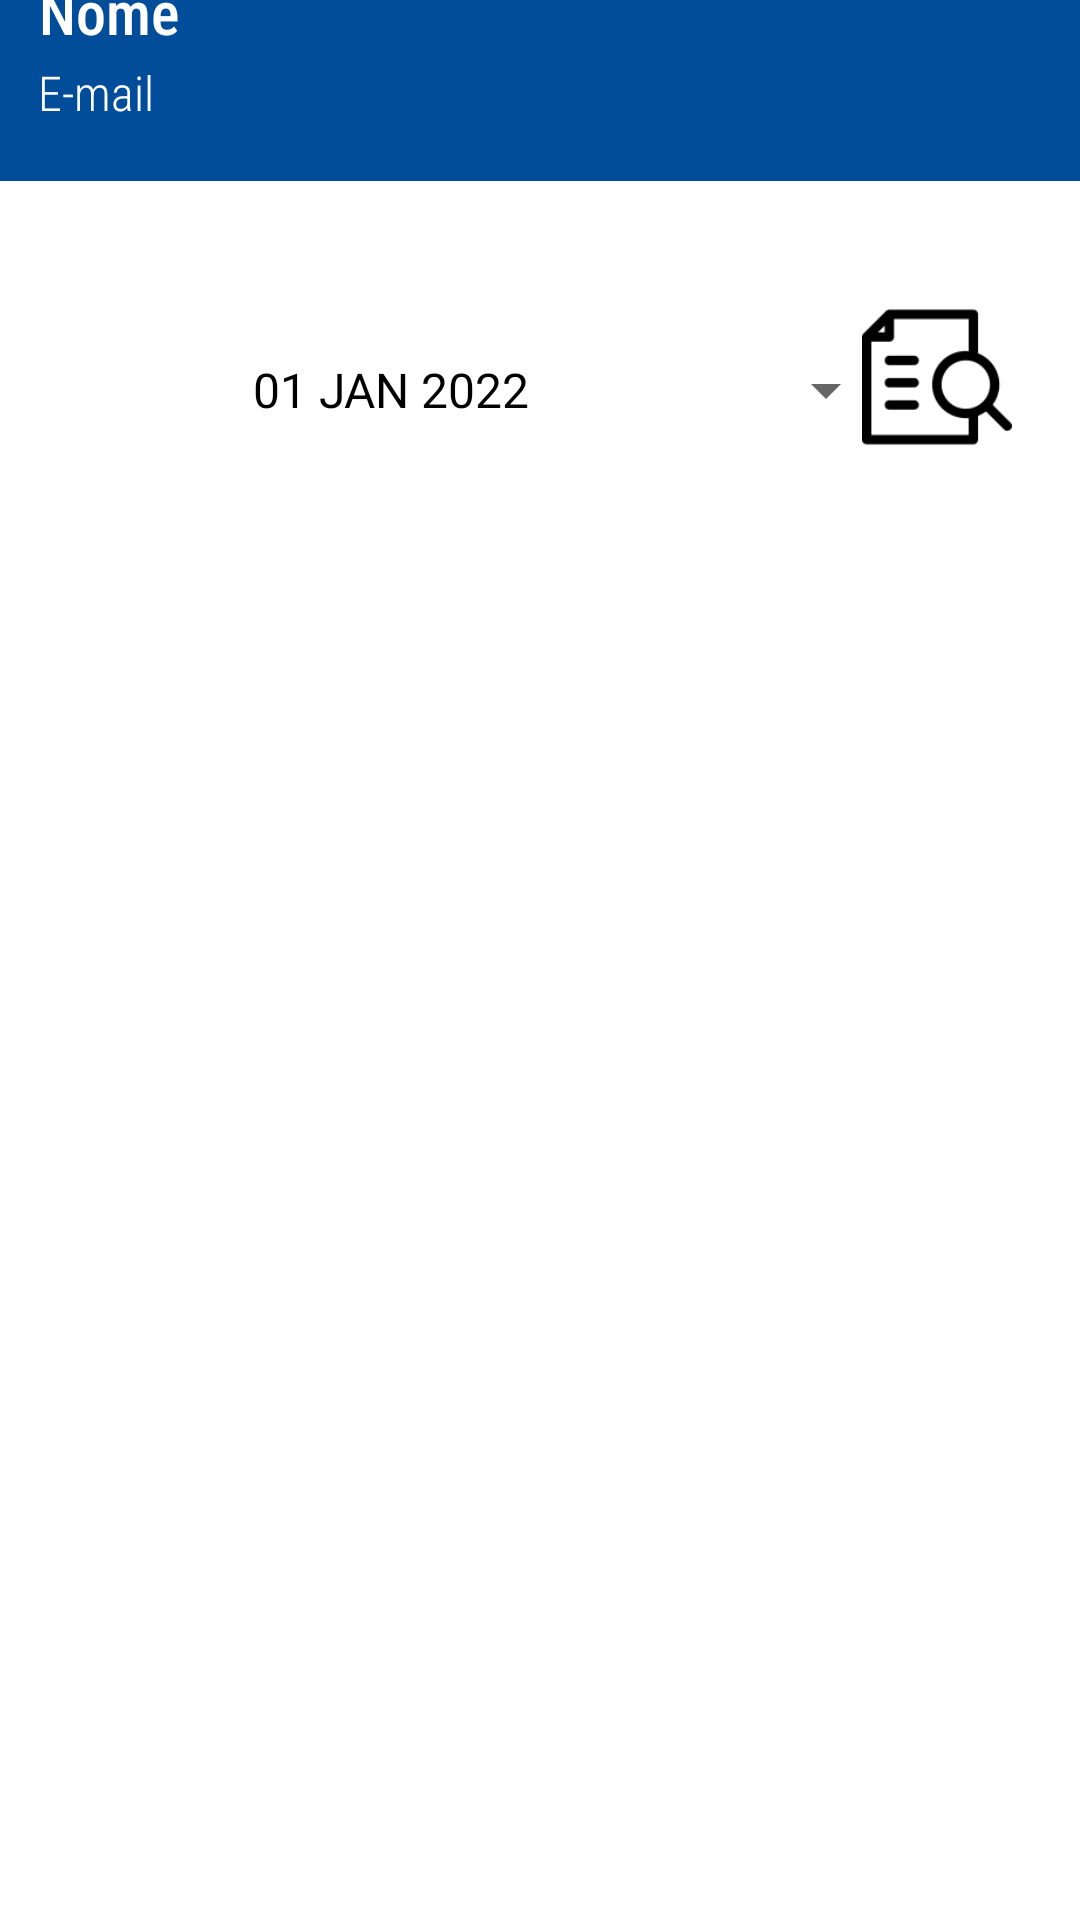

Screen size 1080 x 1920. Icon name, then its center in pixels as point (x, y):
Pesquisa: point (937, 377)
